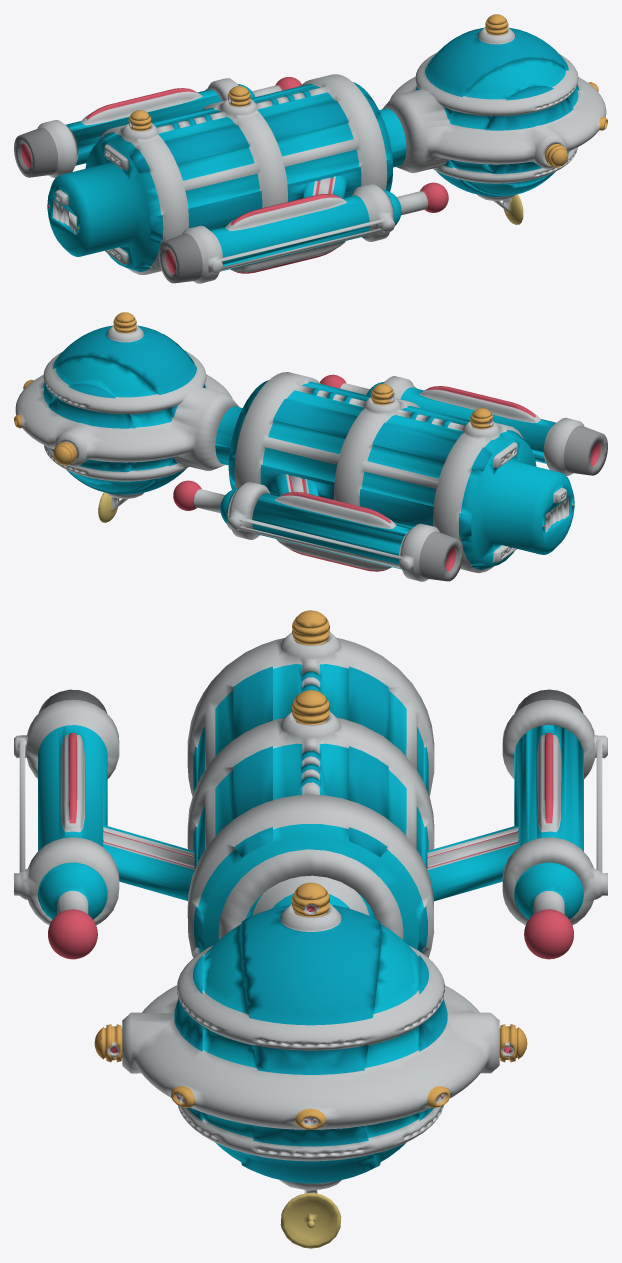
The model's file is ear-yi-sun-sin.glb.
3 renders of one model, top to bottom at view 1: azimuth 30°, elevation 25°; view 2: azimuth 150°, elevation 25°; view 3: azimuth 270°, elevation 25°, orthographic. The views are drawn at different scales.
Visible parts, largest first — view 1: Yi Sun-sin current hull - authored COLOR_0 regions; view 2: Yi Sun-sin current hull - authored COLOR_0 regions; view 3: Yi Sun-sin current hull - authored COLOR_0 regions.
Part boxes in pixels (x1,y1,x2,y2): Yi Sun-sin current hull - authored COLOR_0 regions: (14, 14, 607, 283); Yi Sun-sin current hull - authored COLOR_0 regions: (14, 312, 607, 581); Yi Sun-sin current hull - authored COLOR_0 regions: (14, 610, 607, 1248).
Bounding box in the file's own units: 7.73 × 2.93 × 4.5.
